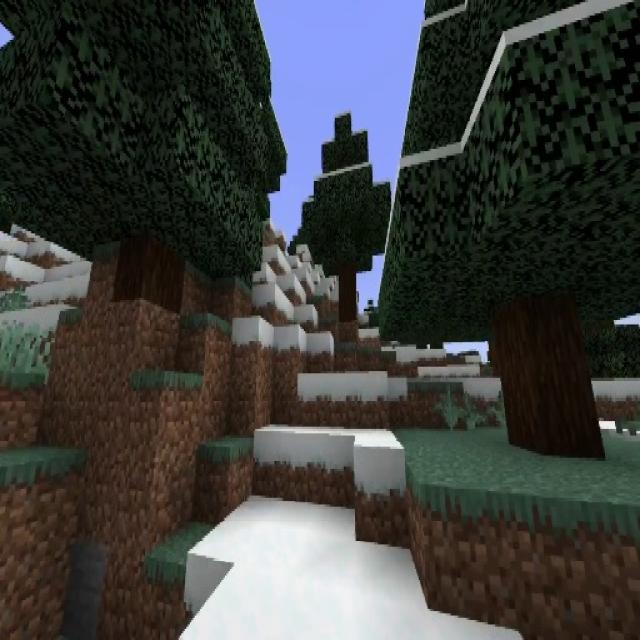spruce: (379, 0, 640, 462), (22, 0, 274, 324), (303, 111, 388, 317)
spruce_log: (500, 300, 592, 462), (125, 242, 180, 317), (338, 270, 358, 322)
